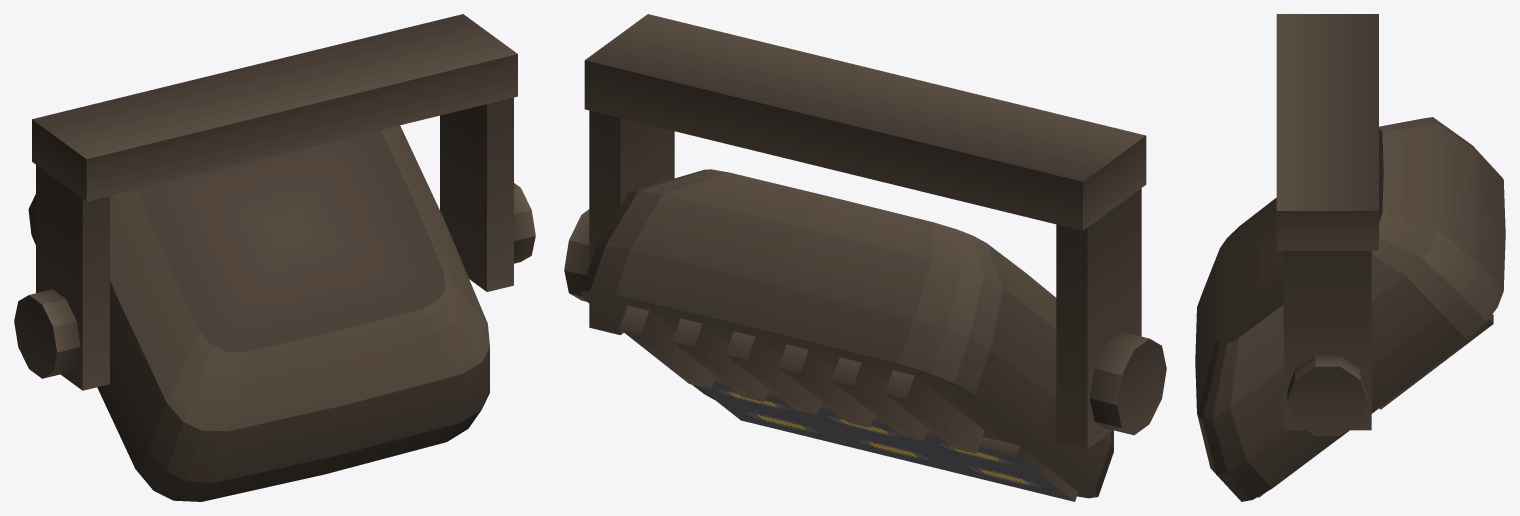
The model's file is floodlight_lithdsxf1yk_c.obj.
3 renders of one model, left to right at view 1: azimuth 30°, elevation 25°; view 2: azimuth 150°, elevation 25°; view 3: azimuth 270°, elevation 25°, orthographic. The views are drawn at different scales.
Visible parts, largest first — view 1: fixture; view 2: fixture; view 3: fixture.
Boxes of the visible parts, bbox=[...] form: fixture: bbox=[14, 14, 535, 501]; fixture: bbox=[564, 14, 1166, 501]; fixture: bbox=[1195, 14, 1505, 501].
Bounding box in the file's own units: 0.442 × 0.3096 × 0.2653.
